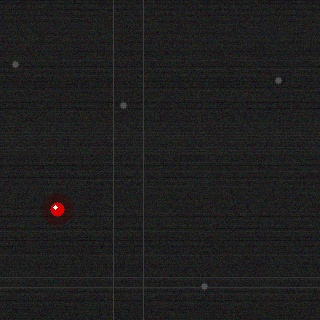red_fault: (48, 200, 66, 218)
